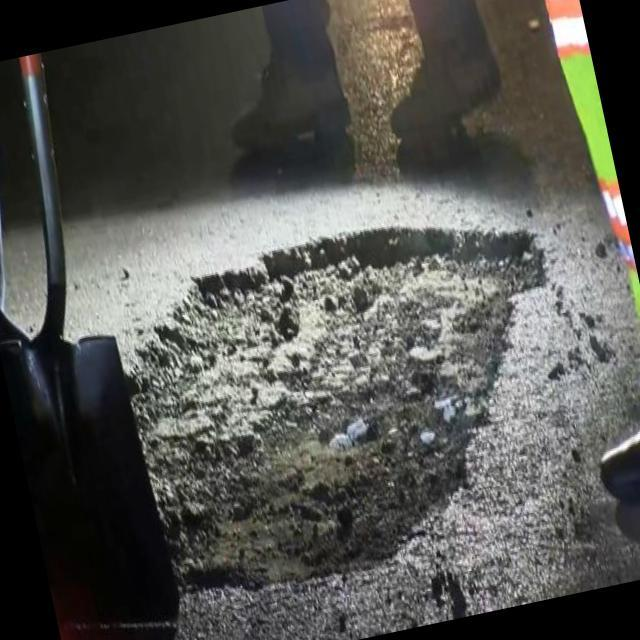Pothole: (137, 180, 598, 630)
